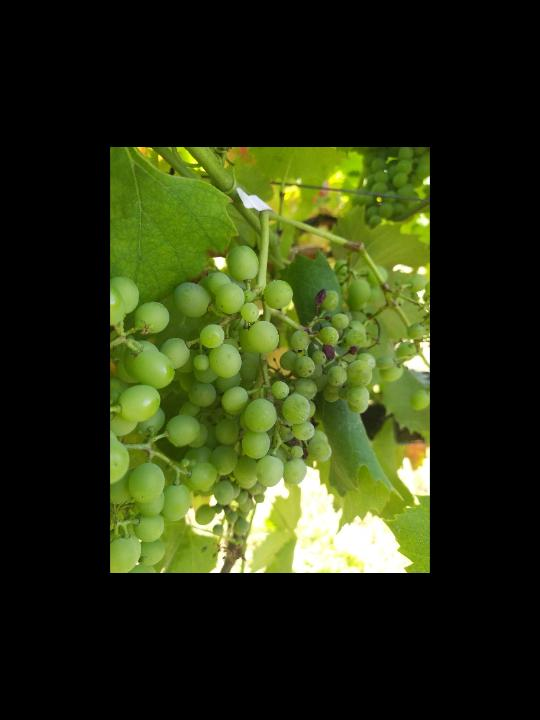grape: (161, 243, 380, 513)
